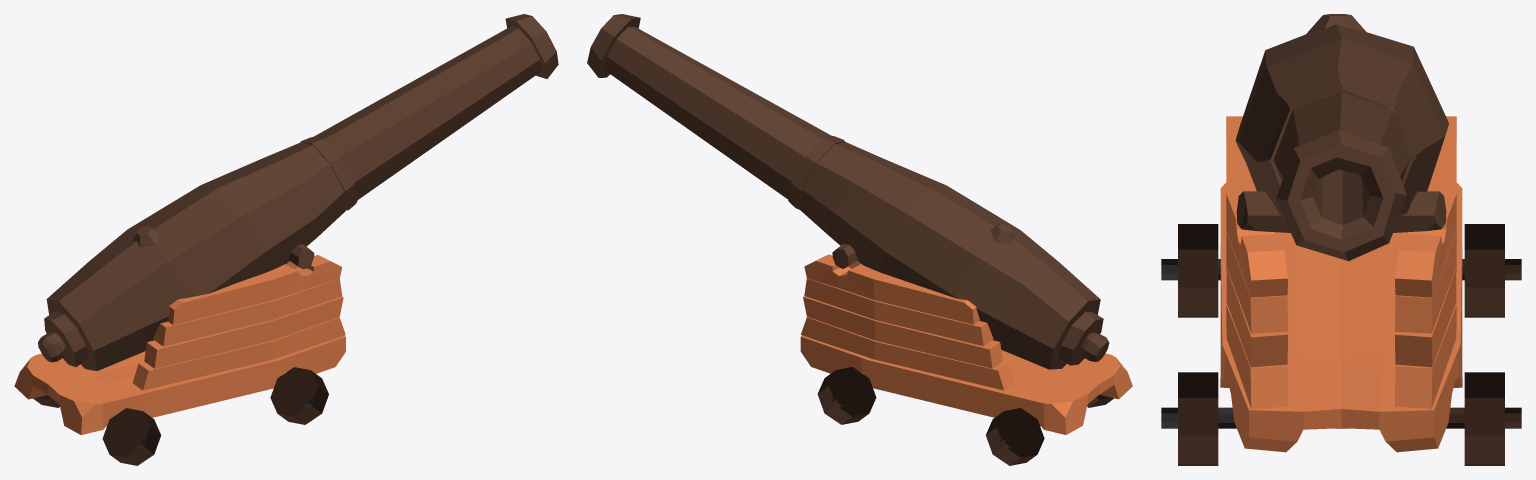
File: cannon.fbx
3 views of the same model, side by side, from view 1: azimuth 30°, elevation 25°; view 2: azimuth 150°, elevation 25°; view 3: azimuth 270°, elevation 25° (orthographic). The views are drawn at different scales.
Parts seen in each view (by area): view 1: canon; view 2: canon; view 3: canon.
Part boxes in pixels (bbox=[...]): canon: bbox=[14, 14, 558, 465]; canon: bbox=[587, 14, 1132, 465]; canon: bbox=[1161, 14, 1521, 465].
Bounding box in the file's own units: 293 × 170 × 99.16.
